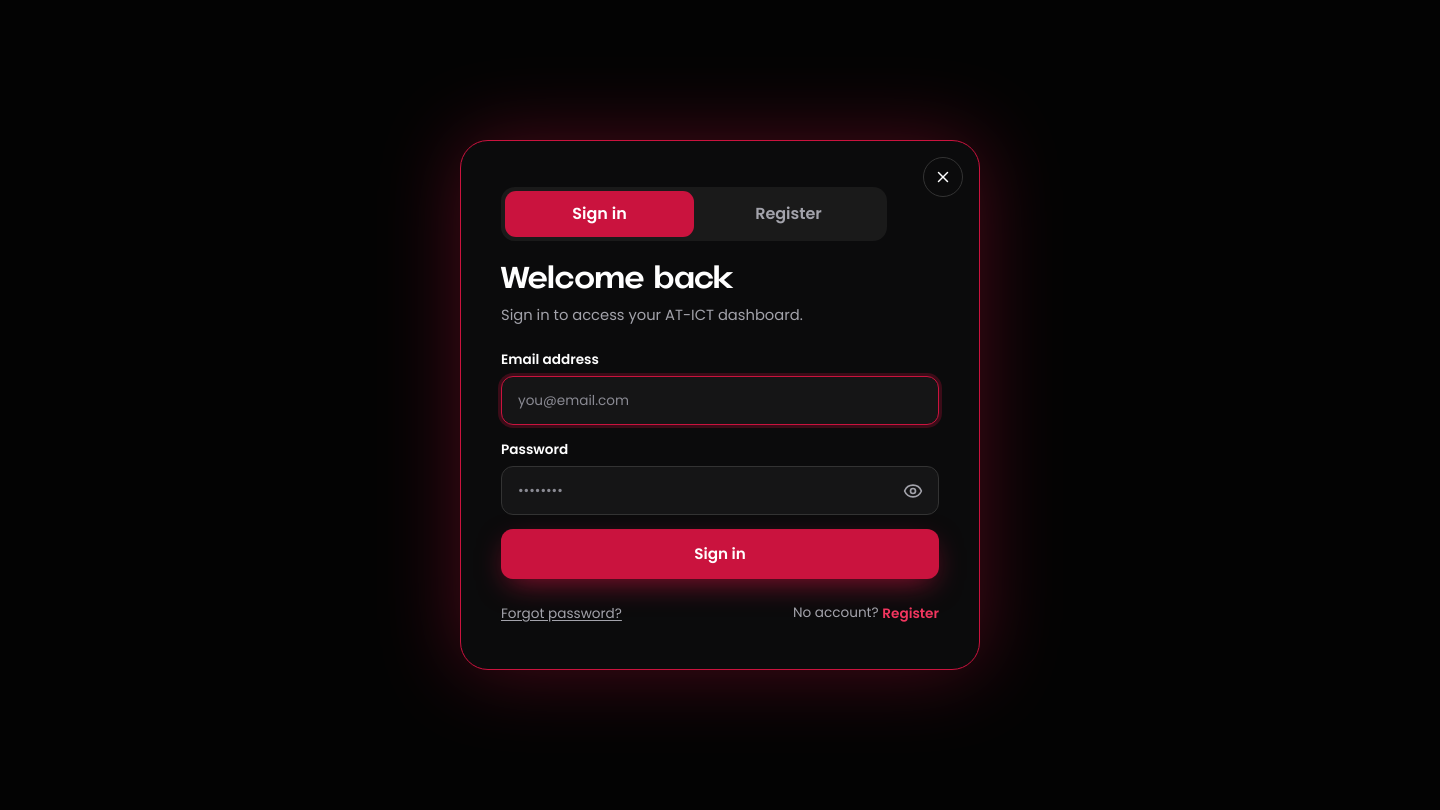
it: sign in › explains a pending account inline instead of signing in
Type "joud@example.com" into the field labelled "Email address" at point(720, 401), box [501,376,939,425]
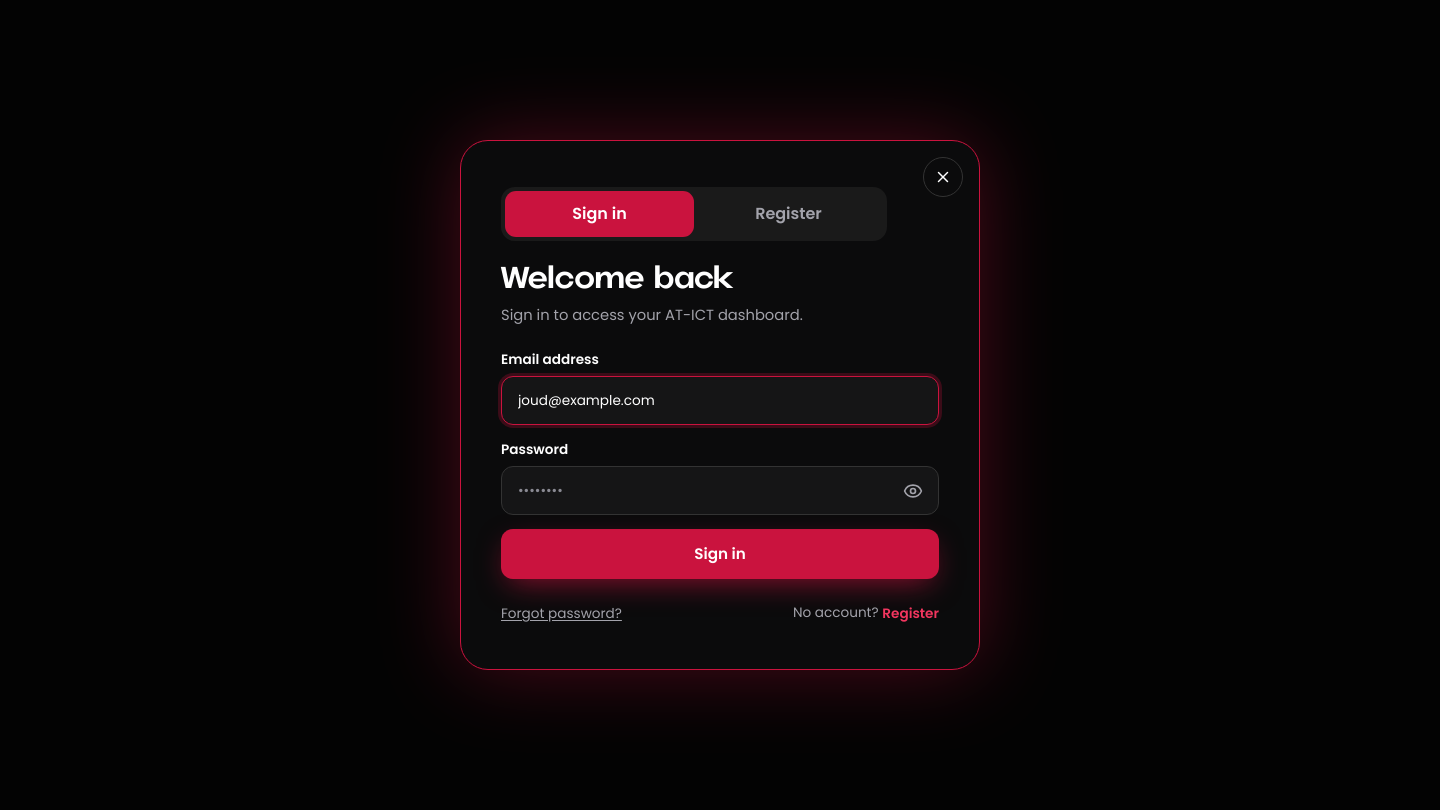
Type "Secret123!" into the password field labelled "Password" at point(720, 491), box [501,466,939,515]
Then press Enter
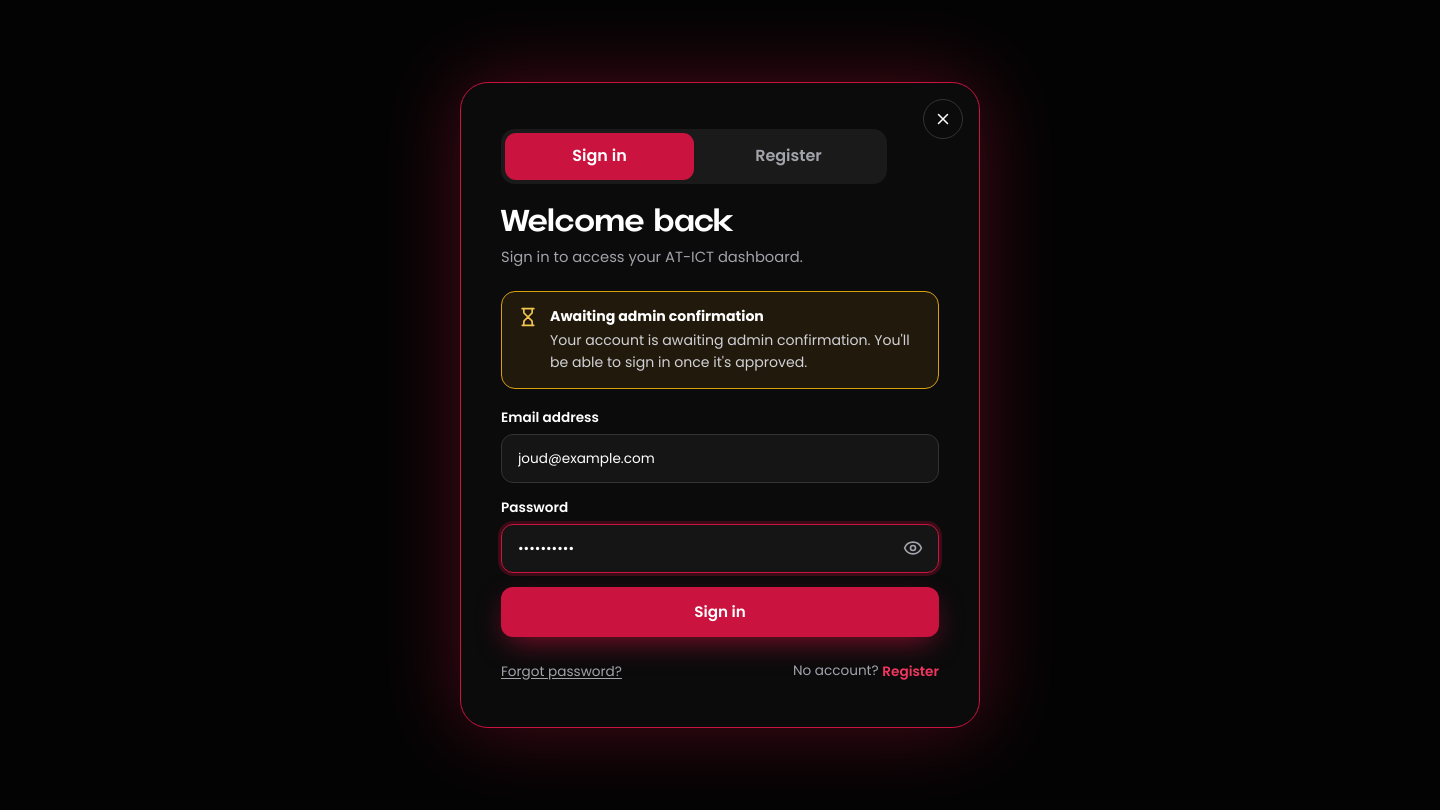
Now the message shows "Awaiting admin confirmation", box [550,306,764,326]
